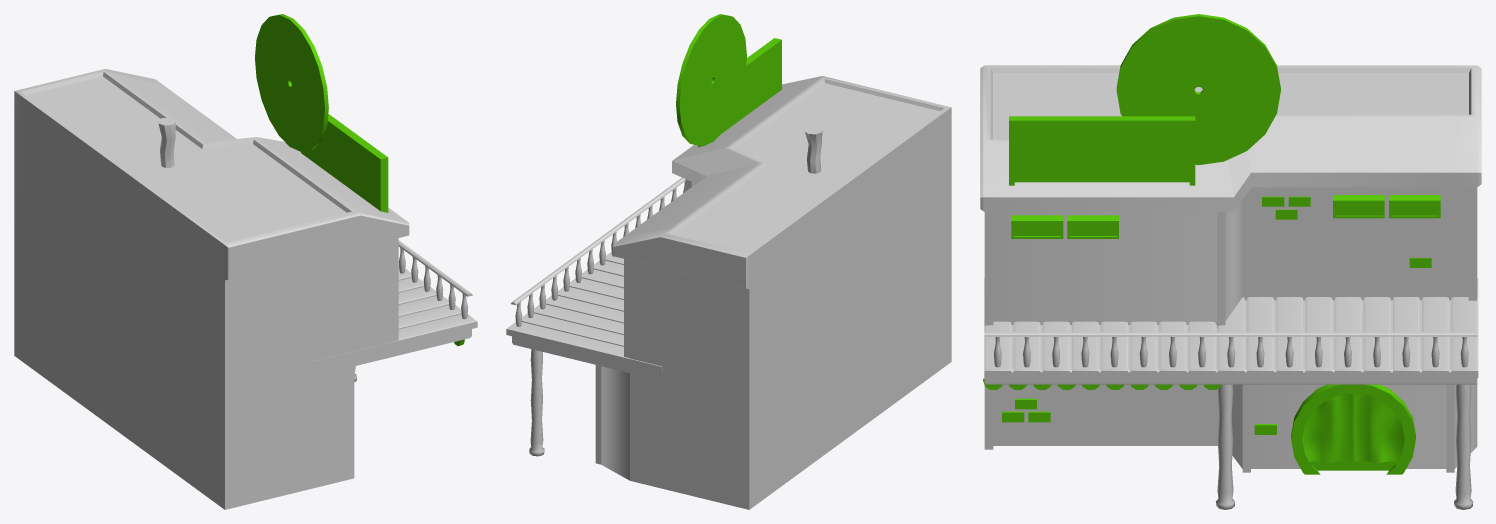
The model's file is SectionB.fbx.
3 renders of one model, left to right at view 1: azimuth 30°, elevation 25°; view 2: azimuth 150°, elevation 25°; view 3: azimuth 270°, elevation 25°, orthographic. The views are drawn at different scales.
Parts seen in each view (by area): view 1: MASTERBUILDING1, polySurface36; view 2: MASTERBUILDING1, polySurface36; view 3: MASTERBUILDING1, polySurface36.
Boxes of the visible parts, x1=… form: MASTERBUILDING1: x1=14, y1=69, x2=477, y2=509; polySurface36: x1=255, y1=14, x2=464, y2=345; MASTERBUILDING1: x1=506, y1=76, x2=951, y2=509; polySurface36: x1=676, y1=14, x2=781, y2=146; MASTERBUILDING1: x1=980, y1=65, x2=1481, y2=509; polySurface36: x1=983, y1=14, x2=1440, y2=474.
Size of the model in its own units: 32.67 by 47.69 by 47.94.
